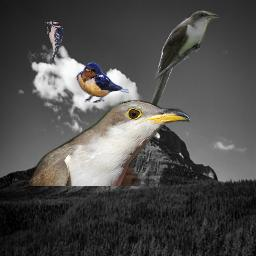Cuckoo: (29, 100, 190, 186), (146, 9, 219, 117)
Swallow: (75, 62, 129, 103)
Woodpecker: (45, 19, 64, 62)
